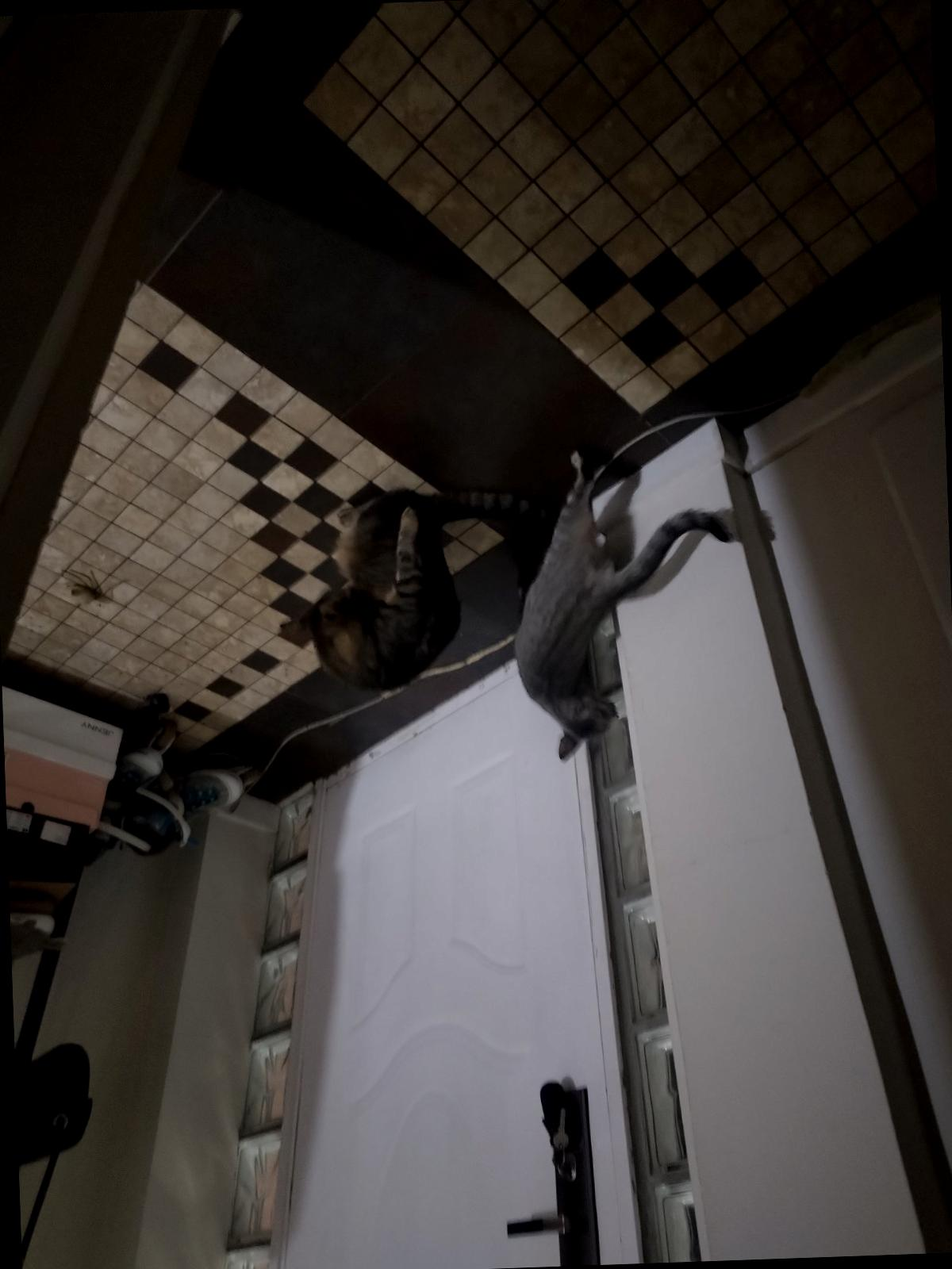macka: (501, 445, 736, 759), (288, 486, 562, 695)
